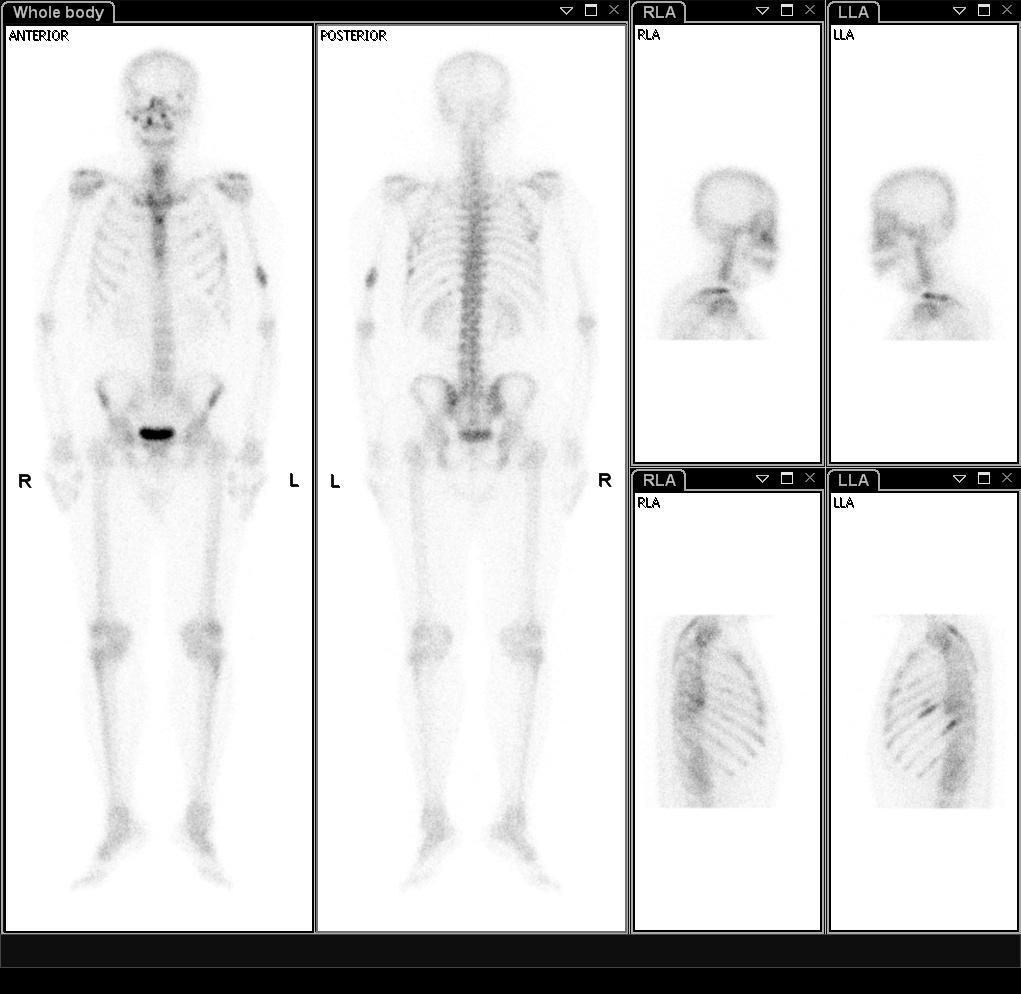person: (4, 22, 626, 932)
